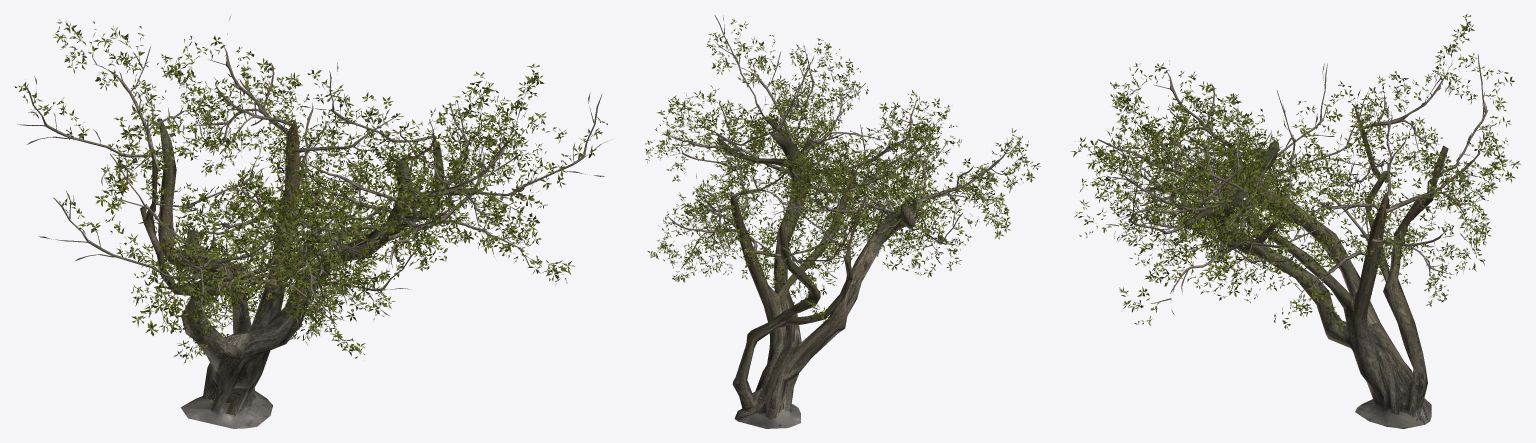
Rendered from island_tree_02-far.gltf.
3 renders of one model, left to right at view 1: azimuth 30°, elevation 25°; view 2: azimuth 150°, elevation 25°; view 3: azimuth 270°, elevation 25°, orthographic. The views are drawn at different scales.
Visible parts, largest first — view 1: island_tree_02_LOD0; view 2: island_tree_02_LOD0; view 3: island_tree_02_LOD0.
Part boxes in pixels (x1,y1,x2,y2): island_tree_02_LOD0: (14,16,609,428); island_tree_02_LOD0: (645,15,1040,428); island_tree_02_LOD0: (1070,14,1520,428).
Size of the model in its own units: 4.11 by 3.41 by 4.07.
Materials: 3 (3 with a texture image).
